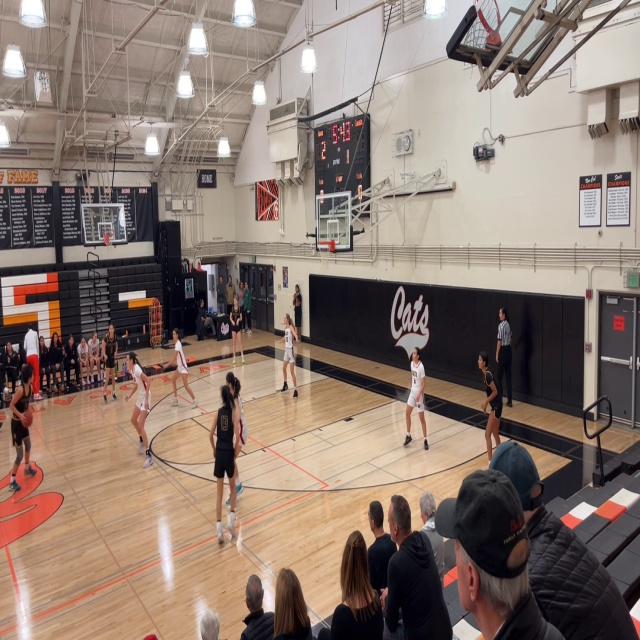Basketball: (20, 409, 33, 427)
